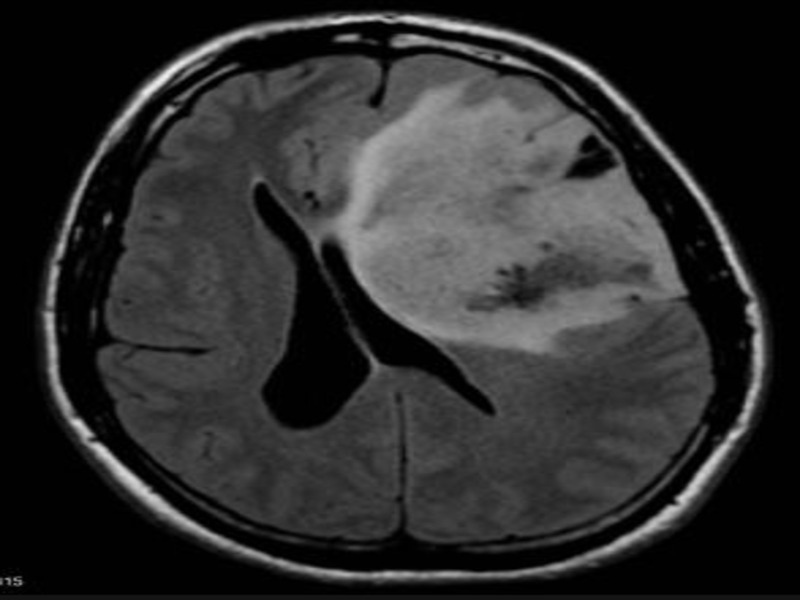tumor: (334, 79, 571, 360)
